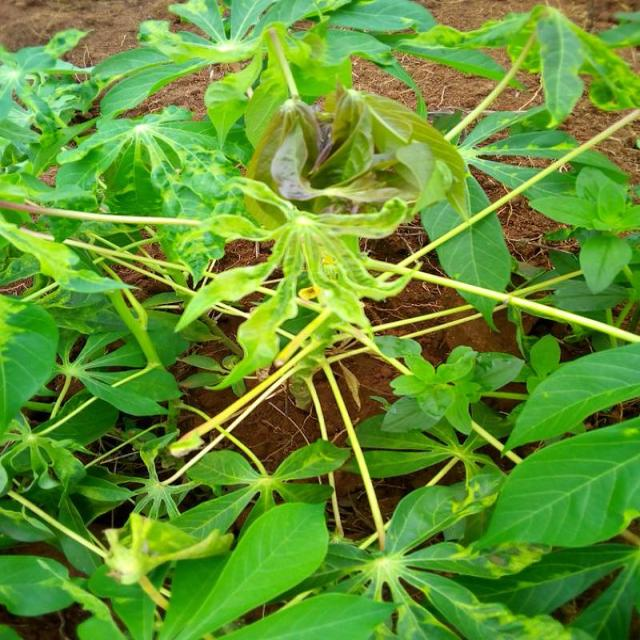cassava leaf: (2, 1, 640, 637), (160, 499, 330, 638), (474, 414, 640, 555), (421, 165, 514, 332)
